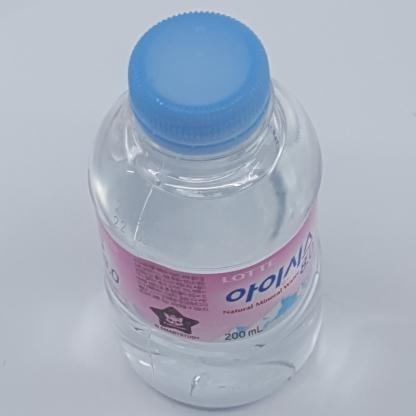------200ML: (87, 10, 323, 408)
